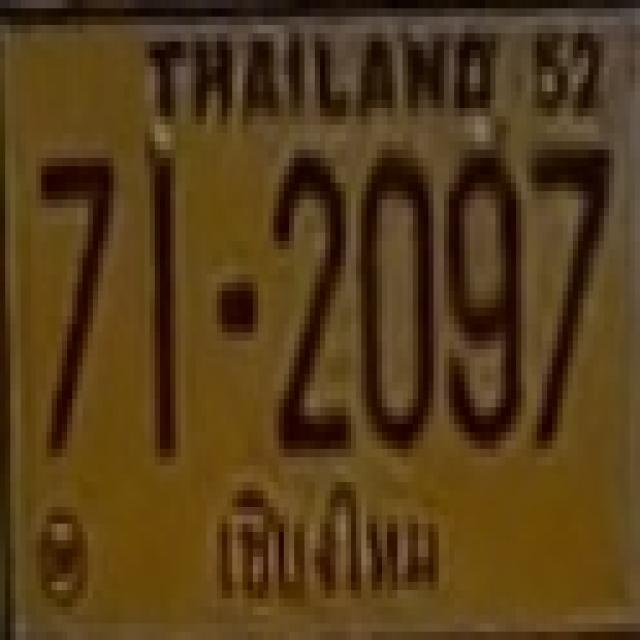0: (356, 150, 429, 440)
1: (147, 150, 173, 457)
2: (273, 150, 346, 448)
7: (526, 142, 609, 440), (36, 150, 109, 448)
9: (444, 142, 516, 440)
CMI: (202, 457, 452, 612)
